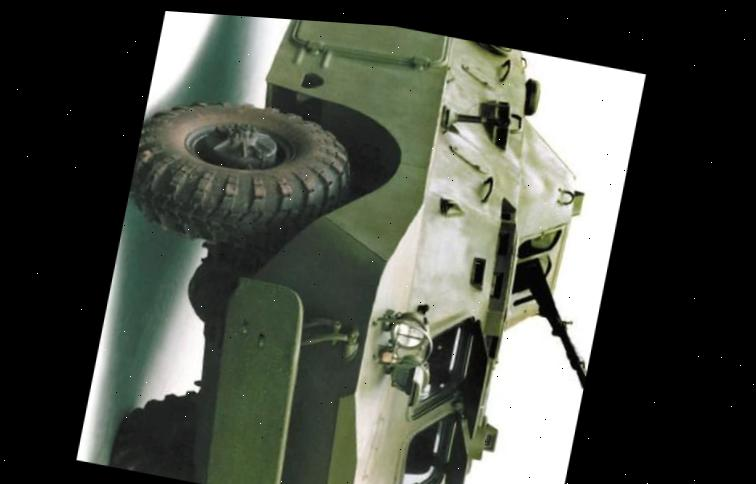tank: (72, 7, 647, 484)
